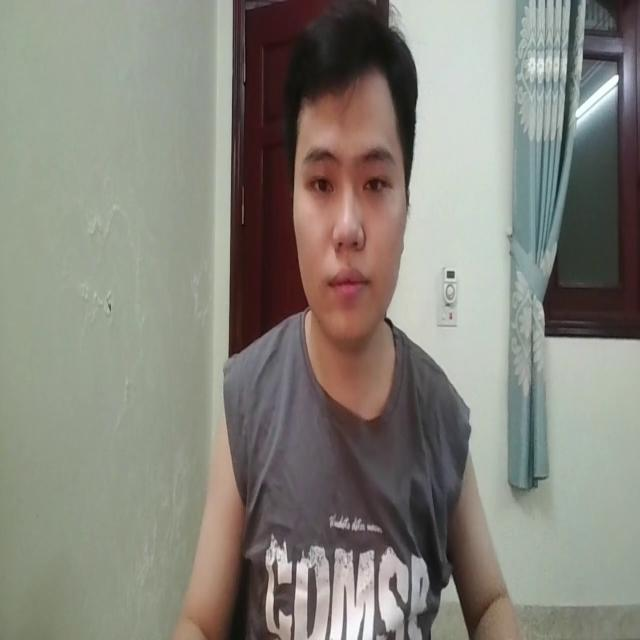student: (167, 6, 517, 640)
